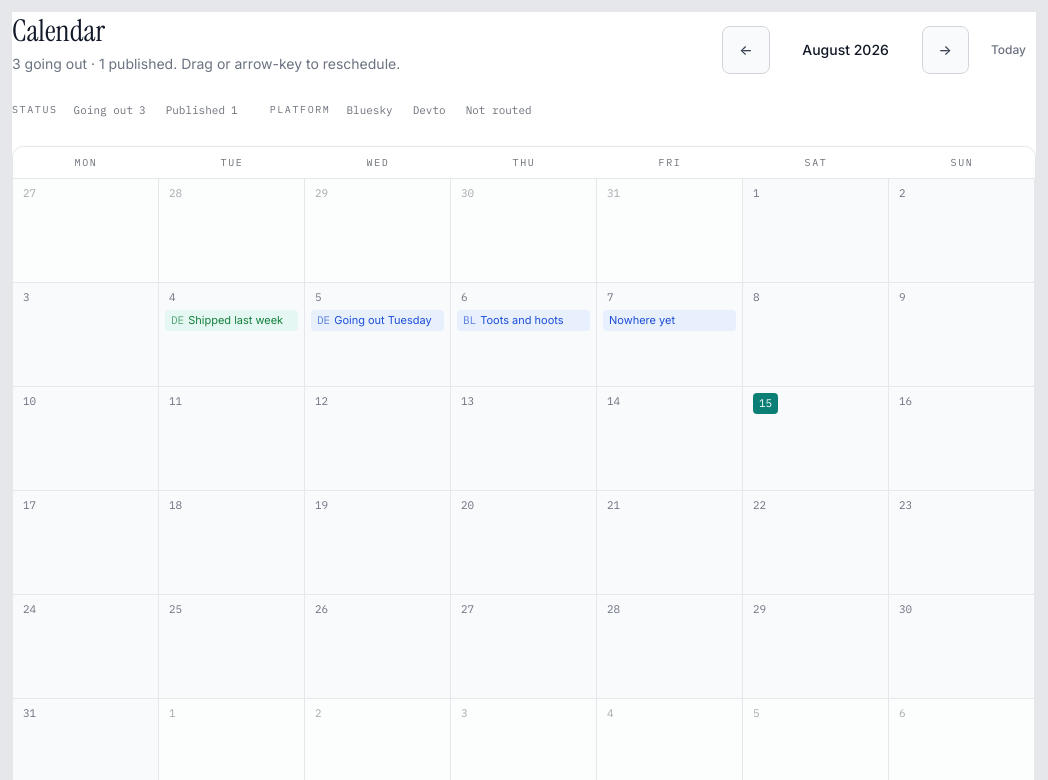
Test: filtering › finds the pieces that are not routed anywhere
Expected: the link "Nowhere yet" is shown, [603,310,736,331]
Click the button "Not routed": (499, 110) [458,98,540,122]
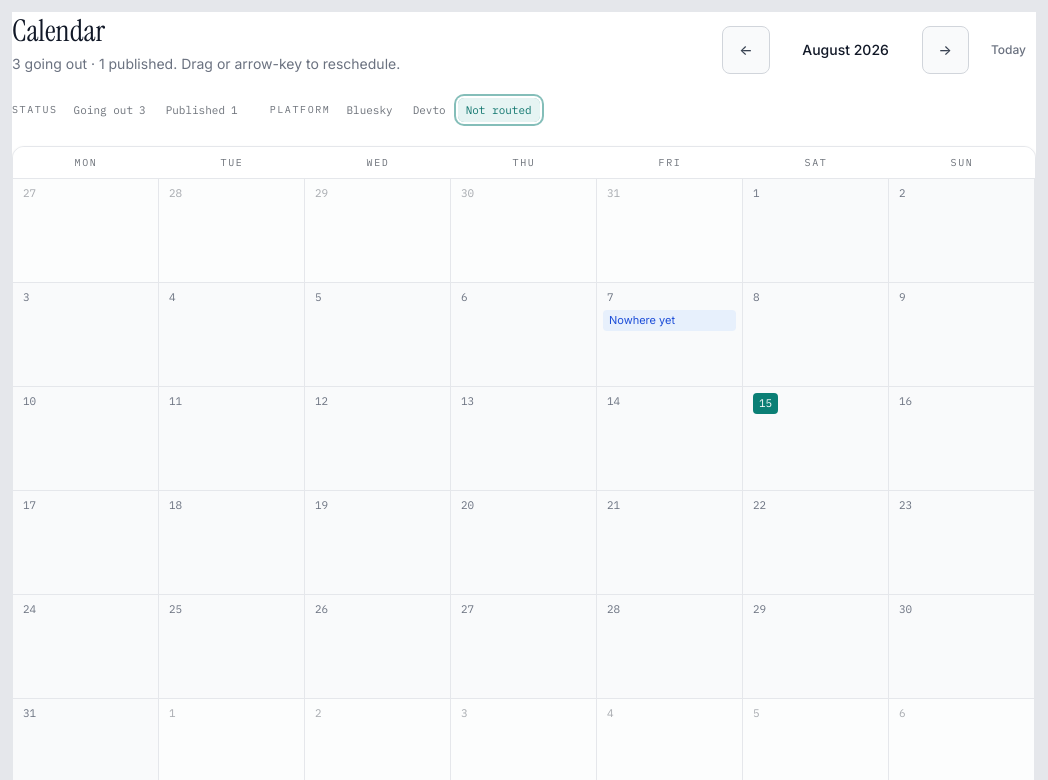
Expected: the link "Nowhere yet" is shown, [603,310,736,331]
Expected: the link "Toots and hoots" is gone
